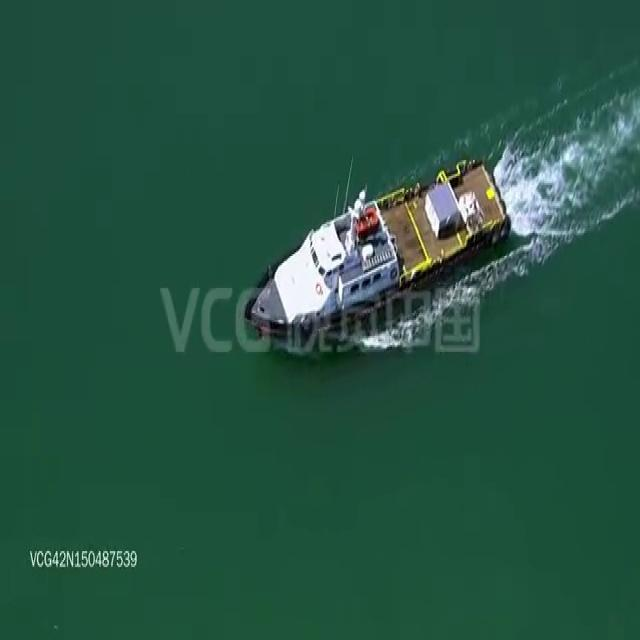houseboat: (242, 150, 515, 347)
